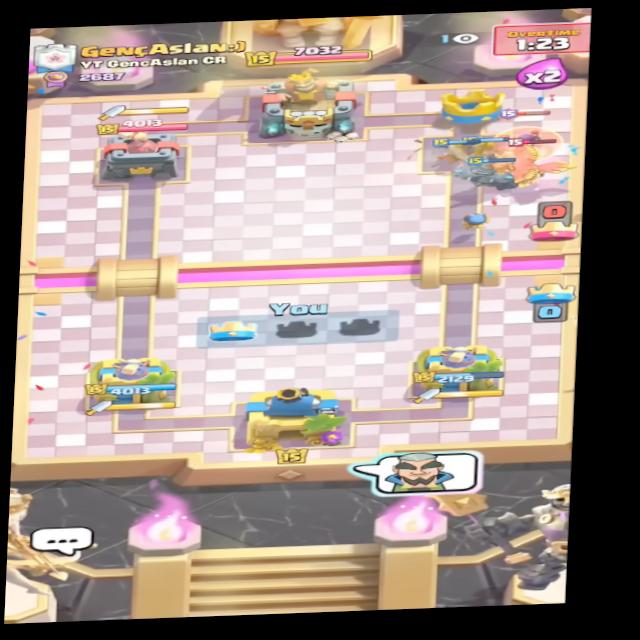evo-wizard: (487, 112, 572, 163)
phoenix: (476, 136, 576, 190)
